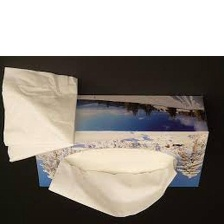book: (29, 88, 214, 193)
tissue: (44, 144, 185, 224), (0, 62, 84, 166)
